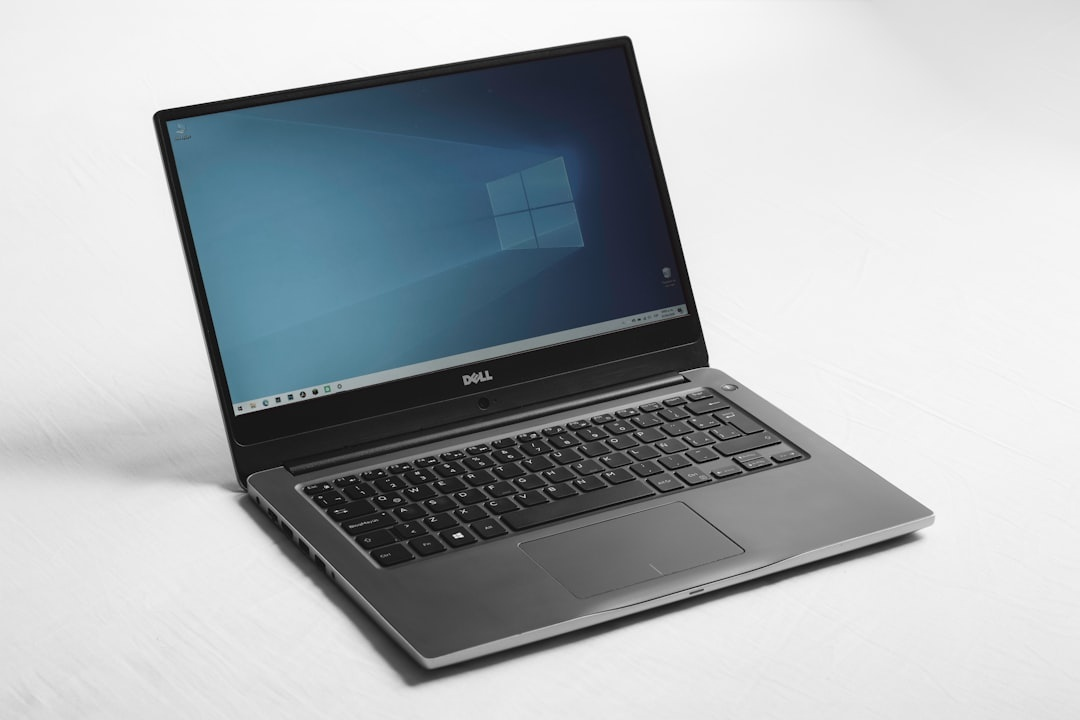laptop: (113, 19, 966, 694)
